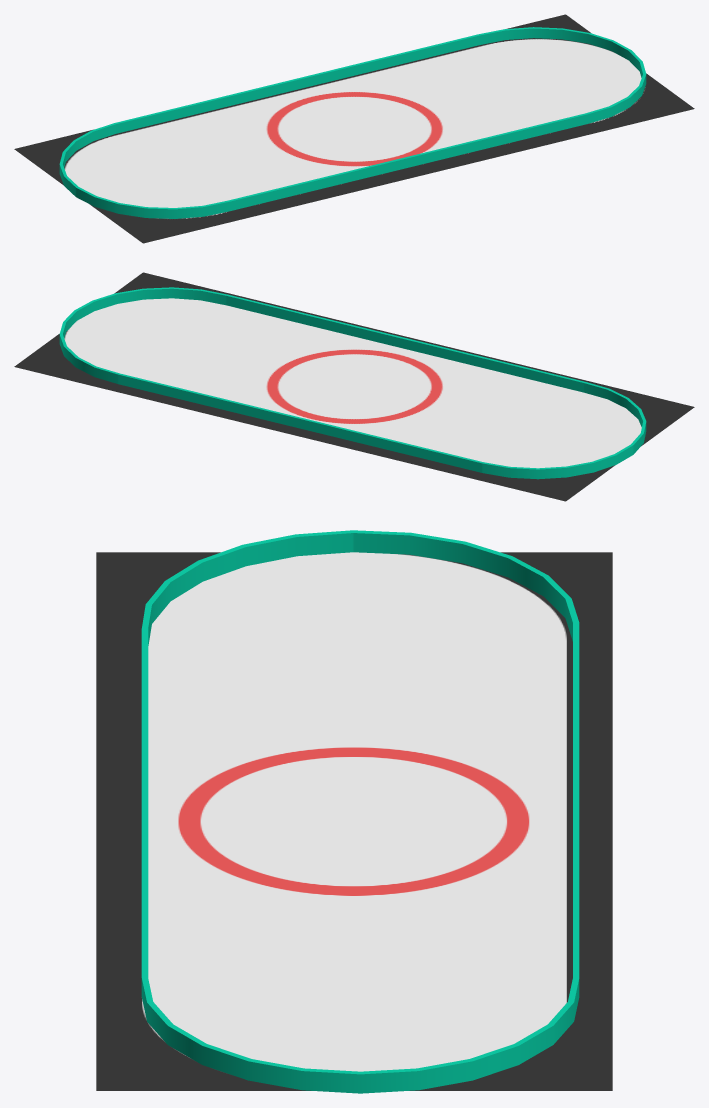
The model's file is Rink.fbx.
3 views of the same model, one above another, from view 1: azimuth 30°, elevation 25°; view 2: azimuth 150°, elevation 25°; view 3: azimuth 270°, elevation 25° (orthographic). The views are drawn at different scales.
Visible parts, largest first — view 1: Ice, Group1; view 2: Ice, Group1; view 3: Ice, Group1.
Part boxes in pixels (x1,y1,x2,y2): Ice: (14, 14, 694, 243); Group1: (59, 27, 646, 218); Ice: (14, 272, 694, 501); Group1: (59, 287, 646, 479); Ice: (96, 552, 612, 1090); Group1: (141, 530, 579, 1093).
Size of the model in its own units: 6060 by 100 by 2432.
